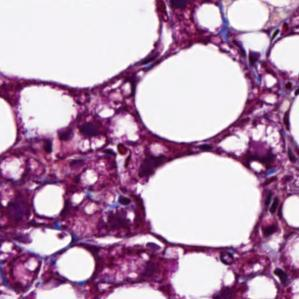inflammation: (41, 118, 106, 158), (259, 190, 286, 241), (273, 264, 294, 290), (245, 48, 268, 71)
